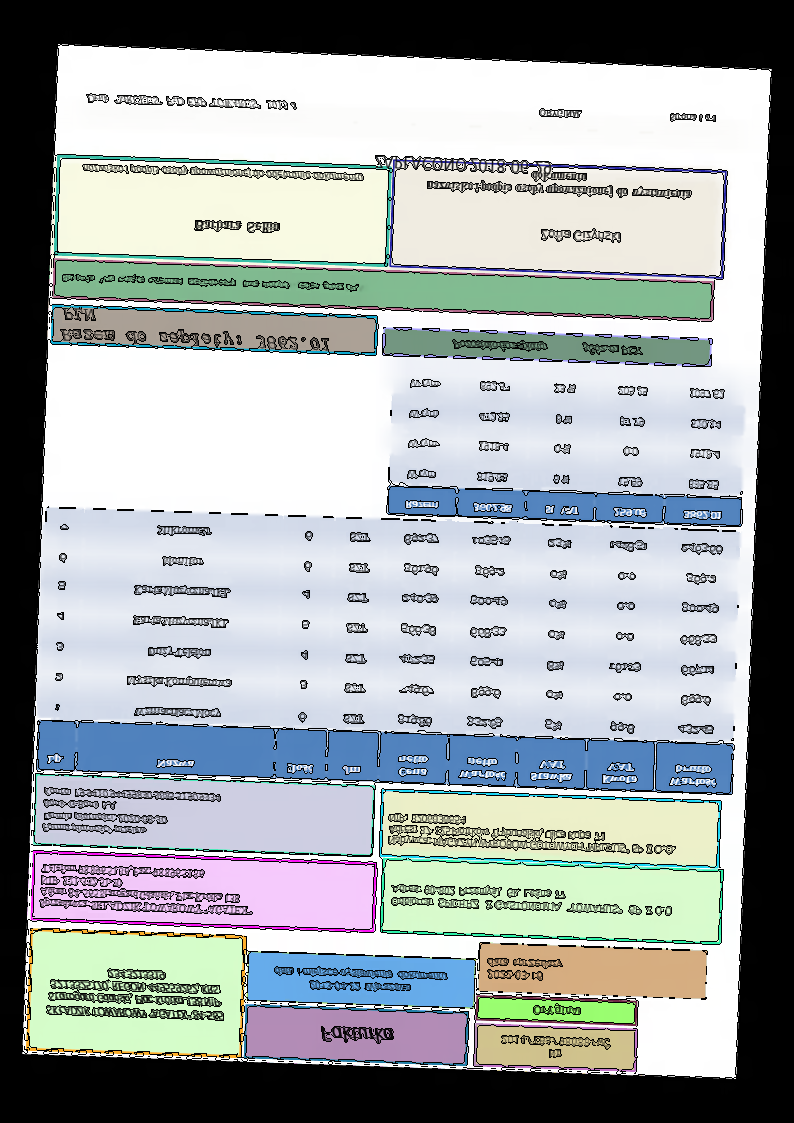Table: (35, 506, 741, 795), (386, 364, 747, 528)
TextBox: (385, 811, 676, 857), (59, 306, 331, 352), (36, 861, 254, 918), (42, 963, 226, 1024), (389, 881, 679, 918), (40, 784, 223, 841), (424, 167, 693, 201), (60, 271, 370, 294), (80, 160, 364, 185), (271, 964, 449, 997), (85, 92, 299, 113), (372, 152, 553, 176), (449, 337, 646, 358), (498, 1033, 613, 1063), (538, 107, 718, 126), (484, 954, 565, 984), (317, 1024, 395, 1045), (538, 226, 623, 245), (192, 218, 280, 235), (531, 1002, 584, 1019)
